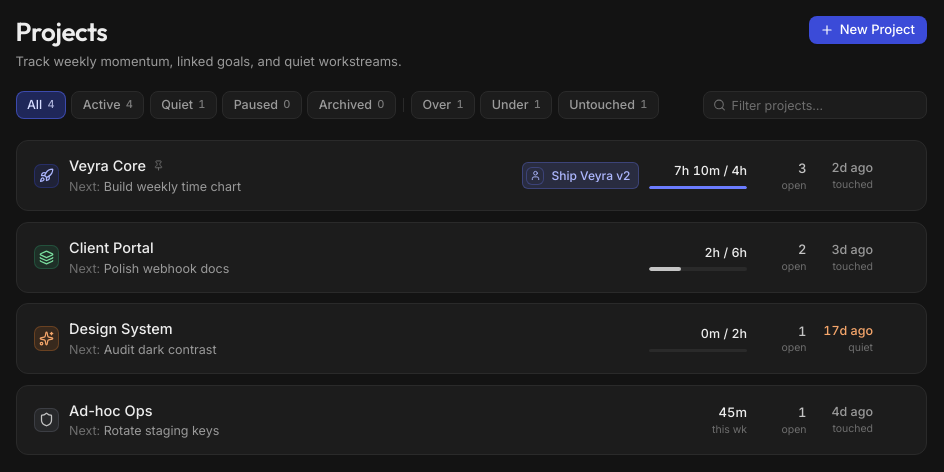
Test: Project Weekly Time UI (Task 9) › ProjectsView displays weekly progress bars (actual / target) and filters by Over, Under, and Untouched
The width and height of the screenshot is (944, 472).
expect the text "Veyra Core" is shown: met, box [69,155,146,176]
expect the text "7h 10m / 4h" is shown: met, box [674,163,747,178]
// Filter: Over
Click the tab "Over 1" at (443, 105), box [411,91,475,119]
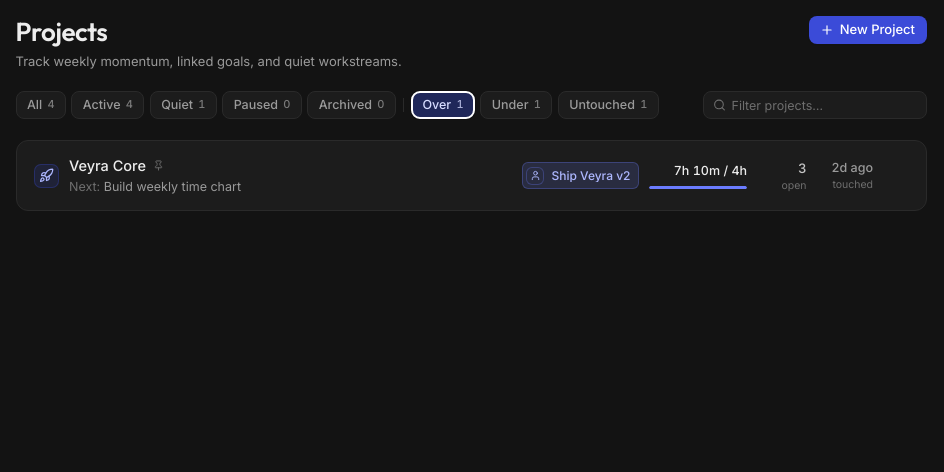
expect the text "Veyra Core" is shown: met, box [69,155,146,176]
expect the button "Client Portal" is gone: met
expect the button "Design System" is gone: met
// Filter: Under
Click the tab "Under 1" at (516, 105), box [480,91,552,119]
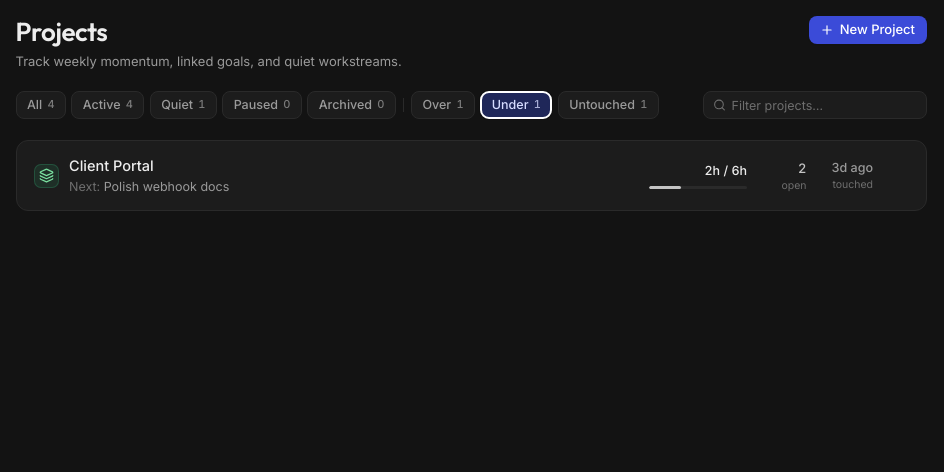
expect the button "Design System" is not shown: met
expect the text "Client Portal" is shown: met, box [69,155,154,176]
expect the button "Veyra Core" is gone: met
// Filter: Untouched
Click the tab "Untouched 1" at (608, 105), box [558,91,659,119]
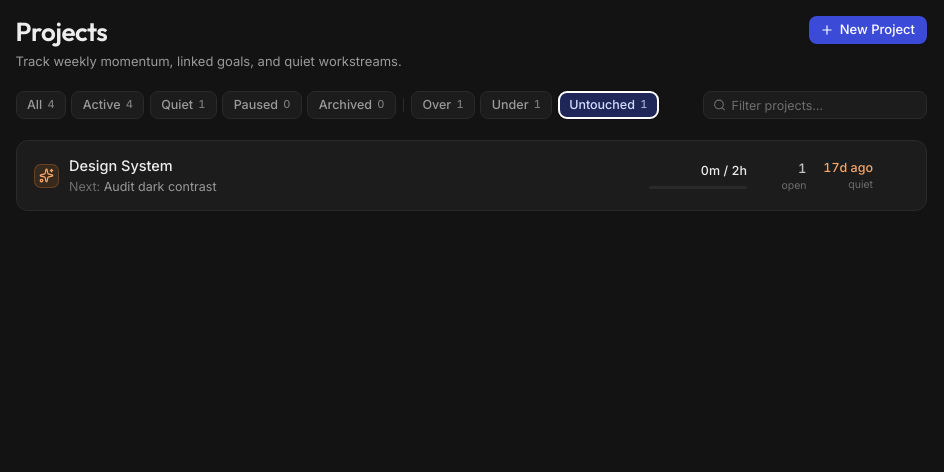
expect the button "Veyra Core" is not shown: met
expect the text "Design System" is shown: met, box [69,155,173,176]
expect the button "Client Portal" is gone: met
